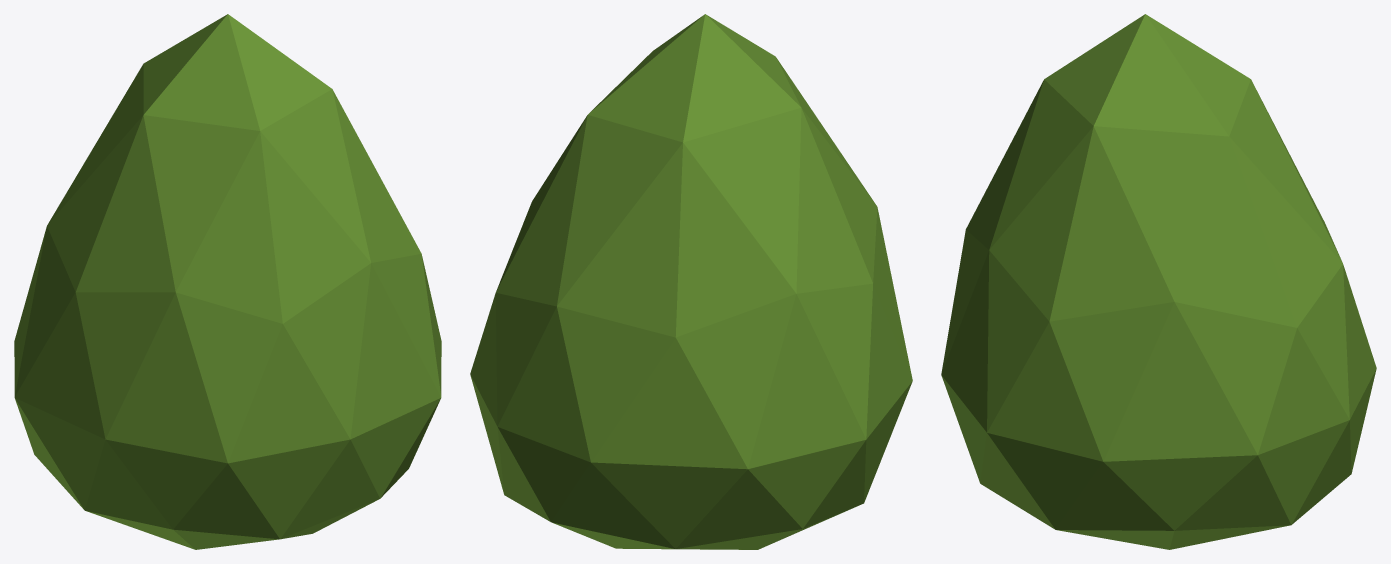
File: brush_1.glb
3 renders of one model, left to right at view 1: azimuth 30°, elevation 25°; view 2: azimuth 150°, elevation 25°; view 3: azimuth 270°, elevation 25°, orthographic.
Visible parts, largest first — view 1: Arbusto_02; view 2: Arbusto_02; view 3: Arbusto_02.
Part boxes in pixels (<box>): Arbusto_02: <box>14,14,441,549</box>; Arbusto_02: <box>470,14,912,549</box>; Arbusto_02: <box>941,14,1376,549</box>.
Size of the model in its own units: 2.2 by 2.75 by 2.21.
Materials: 1 (1 with a texture image).
